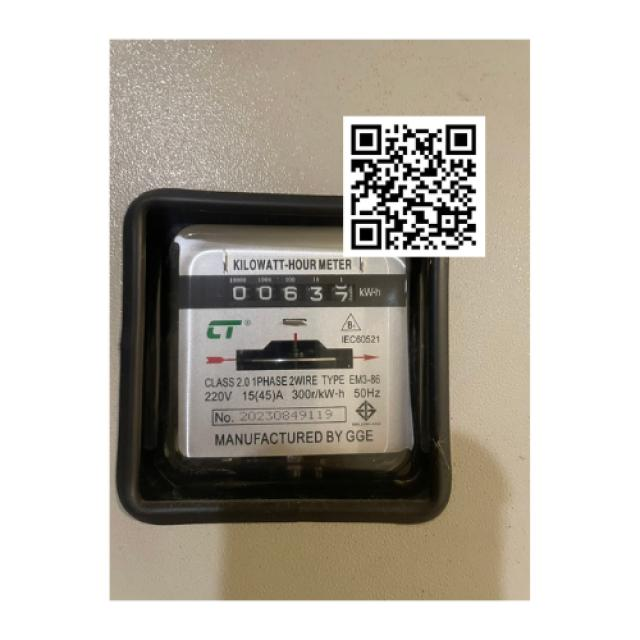qr_code: (344, 115, 486, 255)
